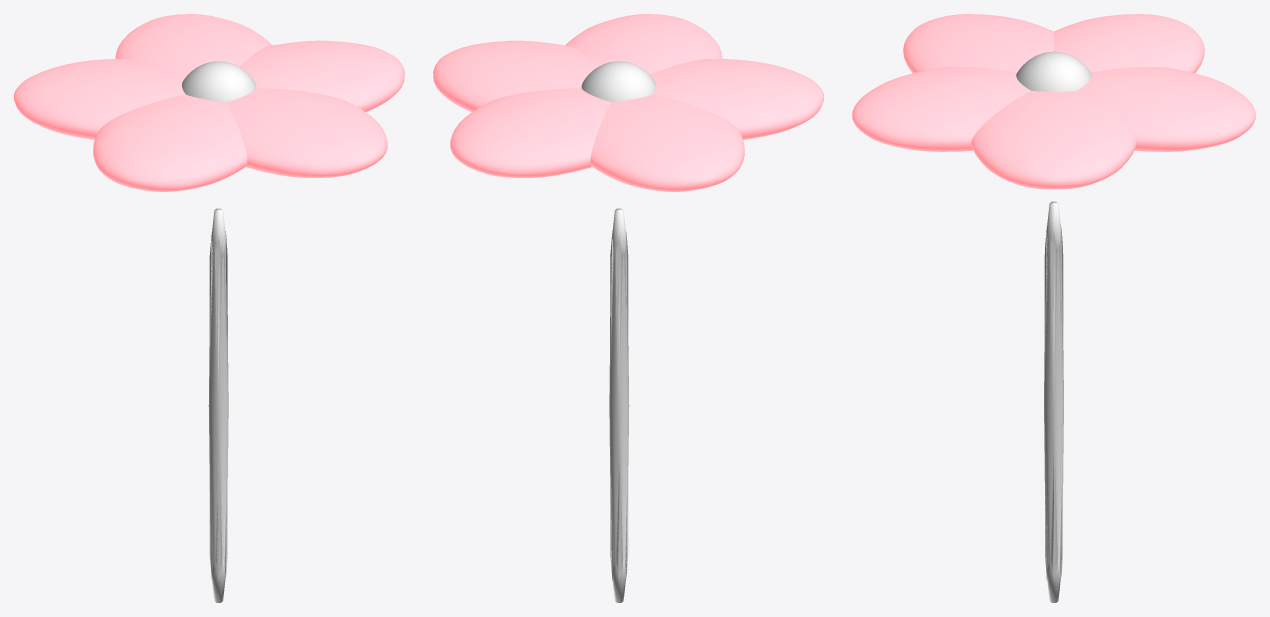
The model's file is plant_flower_poppy_v3.glb.
The picture shows the model from 3 angles, left to right: view 1: azimuth 30°, elevation 25°; view 2: azimuth 150°, elevation 25°; view 3: azimuth 270°, elevation 25°; orthographic projection.
Parts seen in each view (by area): view 1: pt_3.002, pt_4.002, pt_2.002, pt_0.002, st.002, pt_1.002, center.001; view 2: pt_2.002, pt_1.002, pt_3.002, pt_0.002, st.002, pt_4.002, center.001; view 3: pt_0.002, pt_1.002, pt_4.002, st.002, pt_2.002, pt_3.002, center.001.
Boxes of the visible parts, <box> form: pt_3.002: <box>93,94,247,191</box>; pt_4.002: <box>226,88,387,177</box>; pt_2.002: <box>14,59,187,139</box>; pt_0.002: <box>239,40,404,111</box>; st.002: <box>208,208,228,602</box>; pt_1.002: <box>115,14,272,74</box>; center.001: <box>182,61,256,102</box>; pt_2.002: <box>590,94,744,191</box>; pt_1.002: <box>450,88,611,177</box>; pt_3.002: <box>650,59,823,139</box>; pt_0.002: <box>433,40,598,111</box>; st.002: <box>609,208,629,602</box>; pt_4.002: <box>565,14,722,74</box>; center.001: <box>581,61,655,102</box>; pt_0.002: <box>971,90,1136,189</box>; pt_1.002: <box>1077,67,1255,151</box>; pt_4.002: <box>852,67,1030,151</box>; st.002: <box>1044,201,1063,602</box>; pt_2.002: <box>1054,14,1204,72</box>; pt_3.002: <box>903,14,1053,72</box>; center.001: <box>1016,51,1091,91</box>.
Size of the model in its own units: 0.428 by 0.6597 by 0.4421.
